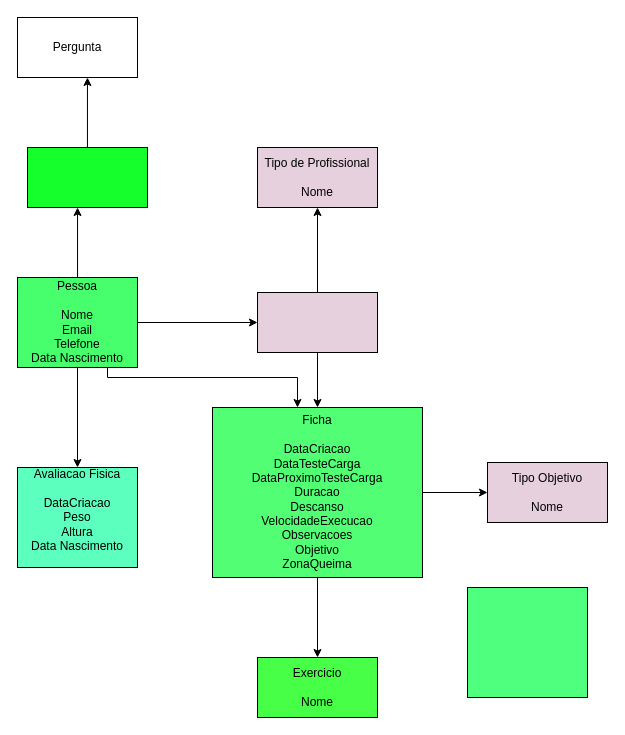
Image size: 625x735. Some labels were removed from this diagram. Here are the shapes that lost their labels. From the top down, the centre of each, then its label:
point 87,177: Conta email password ativo
point 317,322: Profissional Tipo
point 527,642: FichaExercicio Exercicio Carga Sets Repeticoes
